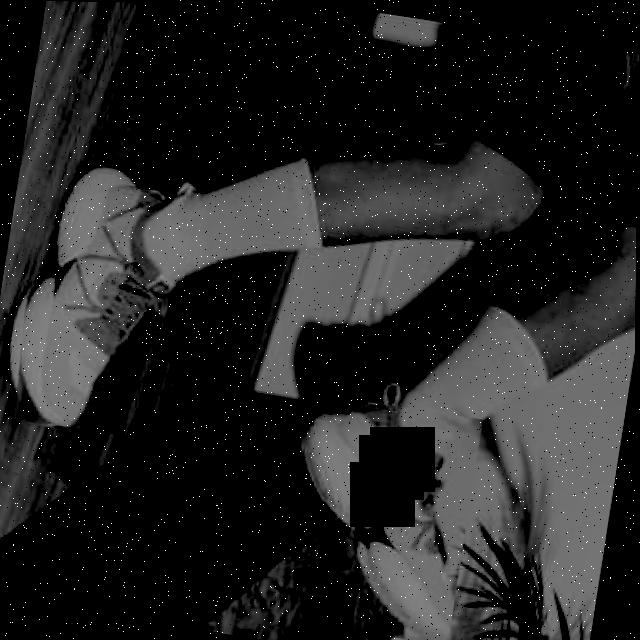shoe: (1, 154, 200, 442), (274, 391, 483, 640)
